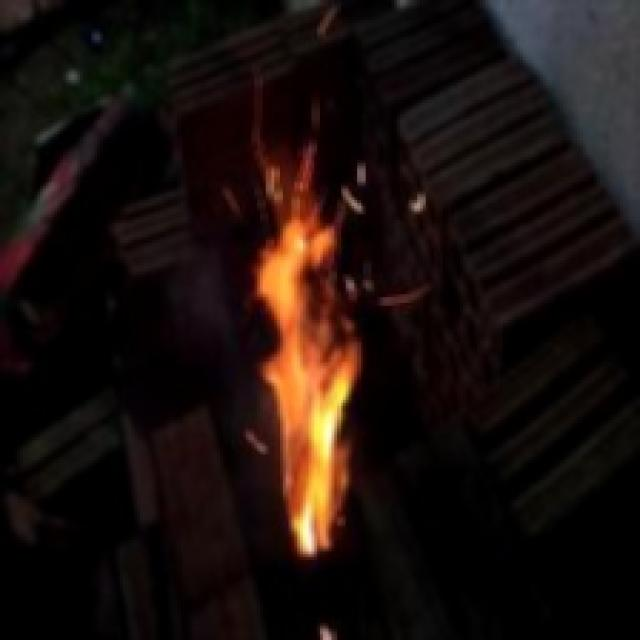fire: (211, 152, 440, 597)
